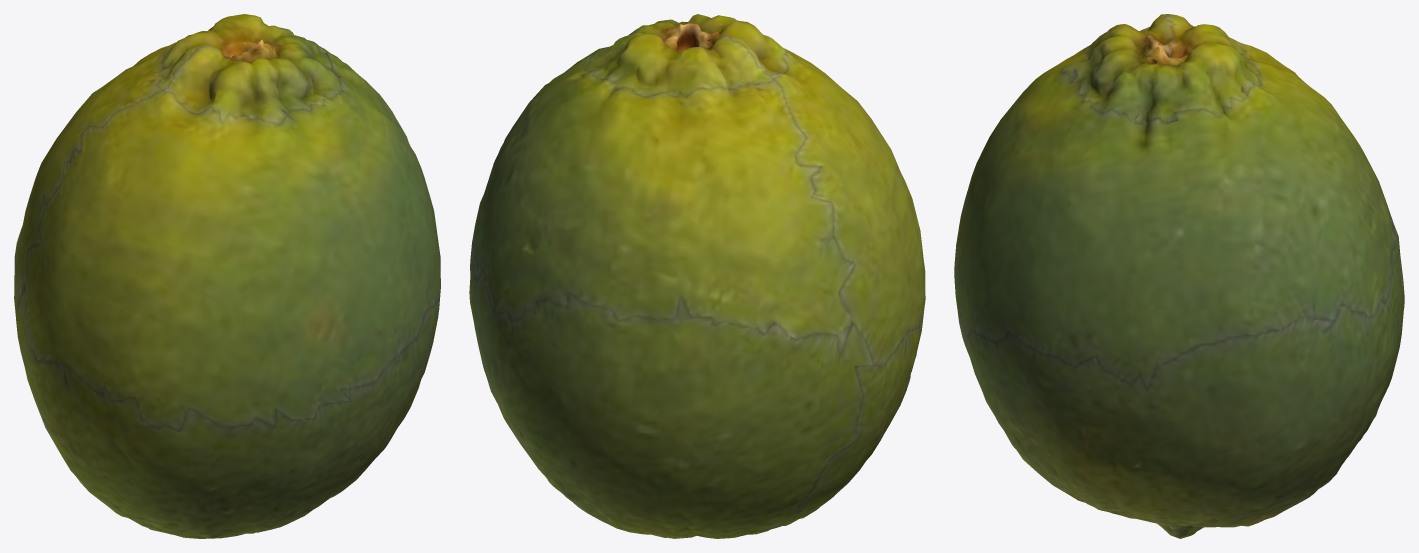
File: food_lime_01.glb
The picture shows the model from 3 angles, left to right: view 1: azimuth 30°, elevation 25°; view 2: azimuth 150°, elevation 25°; view 3: azimuth 270°, elevation 25°; orthographic projection.
Parts seen in each view (by area): view 1: food_lime_01; view 2: food_lime_01; view 3: food_lime_01.
Part boxes in pixels (x1,y1,x2,y2): food_lime_01: (14,14,440,538); food_lime_01: (469,14,925,538); food_lime_01: (954,14,1404,538).
Bounding box in the file's own units: 0.0601 × 0.0754 × 0.0613.
Materials: 1 (1 with a texture image).
